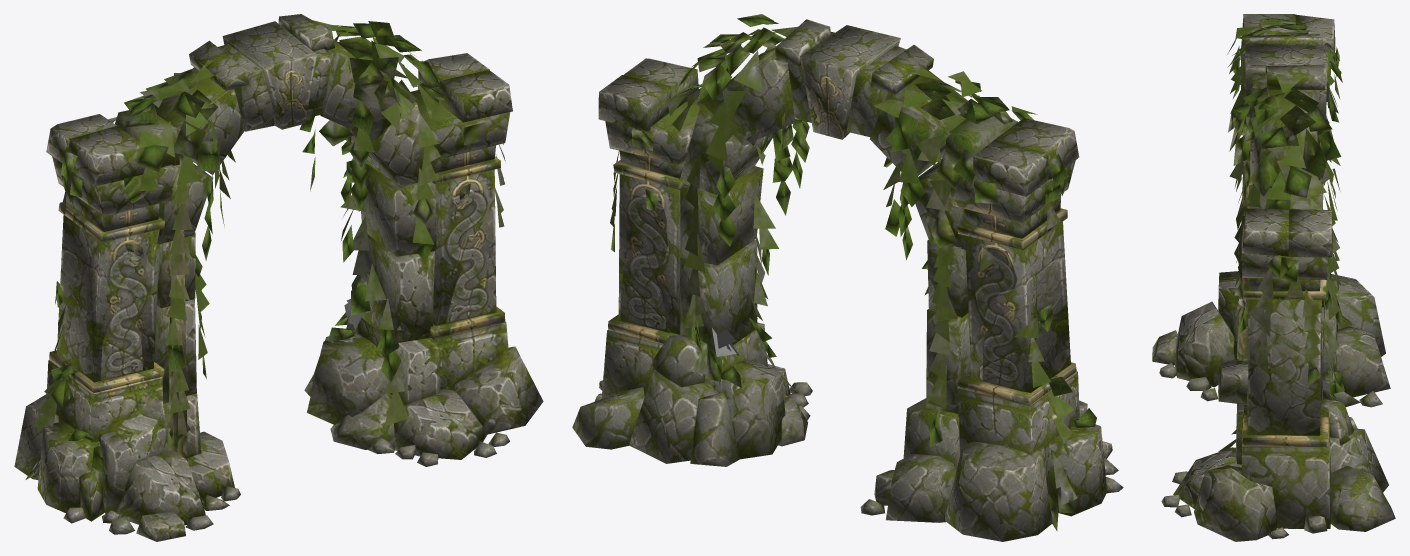
The model's file is serpent_arch.glb.
3 views of the same model, side by side, from view 1: azimuth 30°, elevation 25°; view 2: azimuth 150°, elevation 25°; view 3: azimuth 270°, elevation 25° (orthographic). The views are drawn at different scales.
Parts seen in each view (by area): view 1: kit-serpent-ruin-8; view 2: kit-serpent-ruin-8; view 3: kit-serpent-ruin-8.
Part boxes in pixels (x1=…): kit-serpent-ruin-8: x1=14, y1=14, x2=543, y2=541; kit-serpent-ruin-8: x1=572, y1=14, x2=1123, y2=541; kit-serpent-ruin-8: x1=1152, y1=14, x2=1395, y2=541.
Bounding box in the file's own units: 6.6 × 5.49 × 3.09.
1 material, 1 textured.
